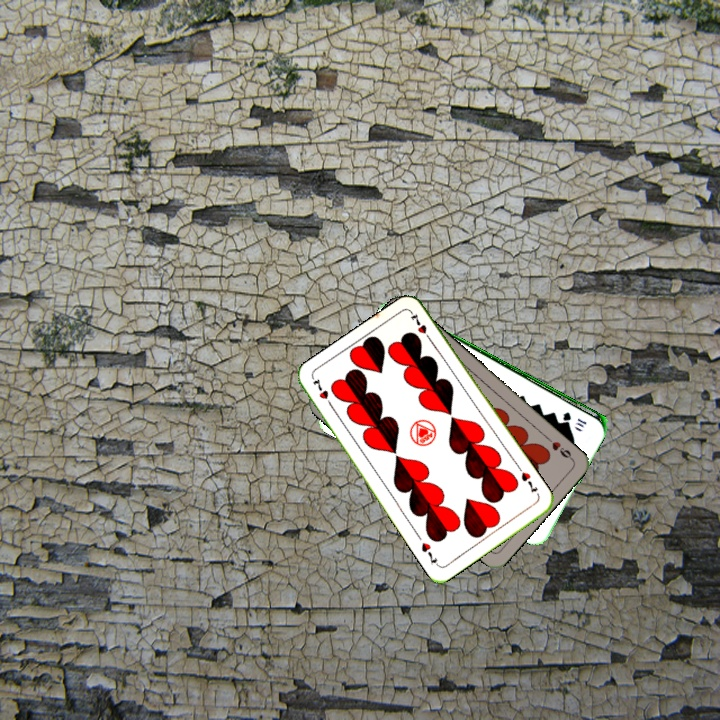G10: (559, 408, 589, 430)
H7: (308, 374, 336, 411), (517, 468, 540, 496)
H9: (541, 432, 575, 462)
